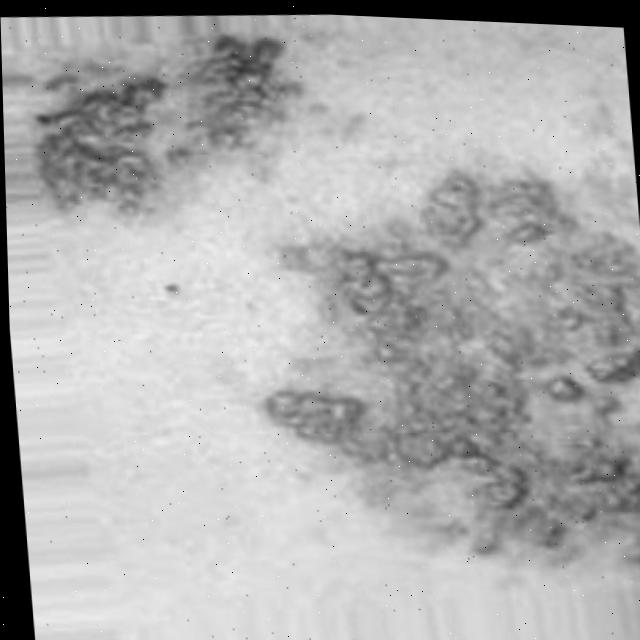Shingles: (37, 8, 640, 618)
